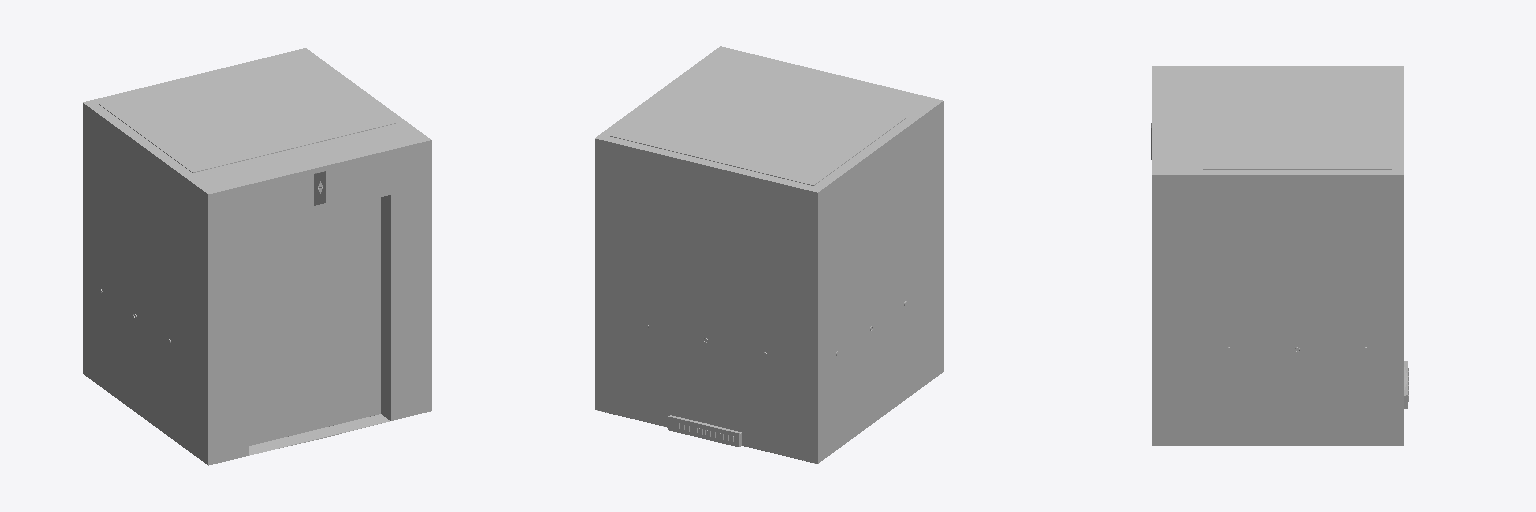
File: Elevator.obj
3 renders of one model, left to right at view 1: azimuth 30°, elevation 25°; view 2: azimuth 150°, elevation 25°; view 3: azimuth 270°, elevation 25°, orthographic.
Visible parts, largest first — view 1: Cube_Cube.001, Cube.001_Cube.002, Cube.003_Cube.004; view 2: Cube_Cube.001, Cube.003_Cube.004; view 3: Cube_Cube.001, Cube.003_Cube.004.
Part boxes in pixels (left/top/right/bottom): Cube_Cube.001: left=83, top=48, right=431, bottom=465; Cube.001_Cube.002: left=249, top=197, right=380, bottom=445; Cube.003_Cube.004: left=99, top=54, right=395, bottom=172; Cube_Cube.001: left=595, top=46, right=943, bottom=463; Cube.003_Cube.004: left=610, top=67, right=907, bottom=185; Cube_Cube.001: left=1152, top=66, right=1408, bottom=445; Cube.003_Cube.004: left=1203, top=70, right=1391, bottom=169.
Bounding box in the file's own units: 3.33 × 3.85 × 3.3.